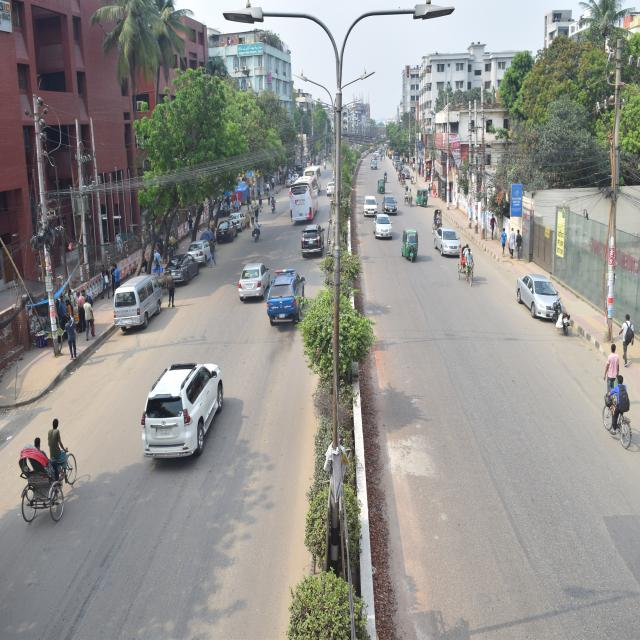bus: (509, 263, 553, 318), (285, 170, 315, 218), (433, 227, 466, 266), (372, 207, 390, 239), (362, 191, 378, 215), (371, 152, 382, 177)
car: (142, 356, 224, 466), (265, 257, 302, 330), (231, 232, 263, 310), (169, 250, 204, 290), (190, 224, 213, 269), (298, 221, 326, 255), (228, 186, 247, 232), (216, 204, 237, 242), (381, 194, 404, 224), (324, 174, 334, 195)
microbus: (112, 262, 162, 337)
motorbike: (548, 286, 578, 337), (248, 221, 268, 241), (264, 197, 281, 214)
